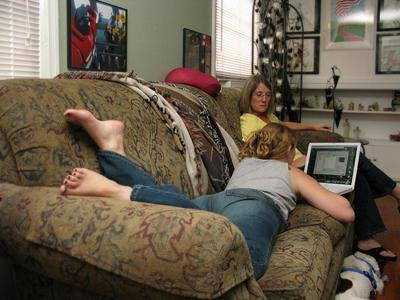person: (60, 109, 357, 281)
